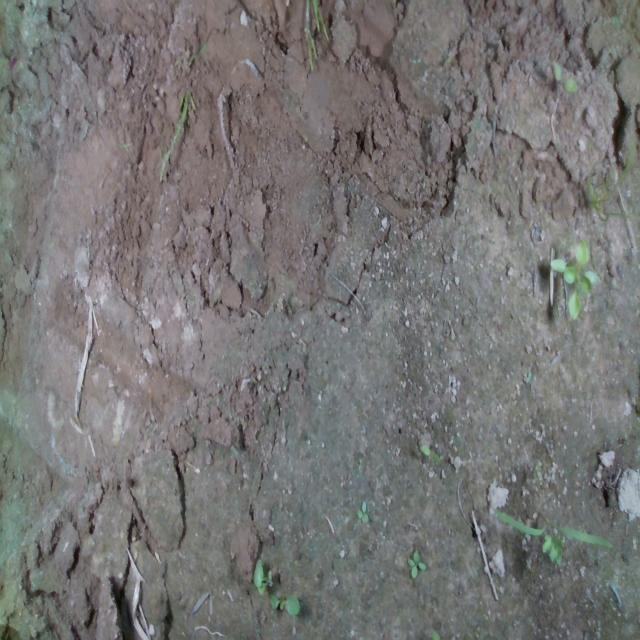weed: (548, 236, 600, 319), (546, 59, 580, 94), (266, 591, 300, 615), (405, 548, 426, 580), (418, 443, 443, 465), (355, 498, 369, 524)
